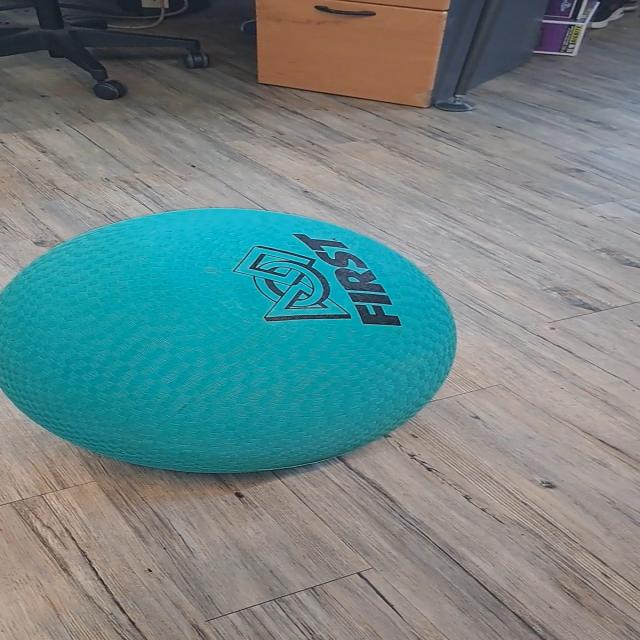ALGAE: (1, 206, 459, 474)
